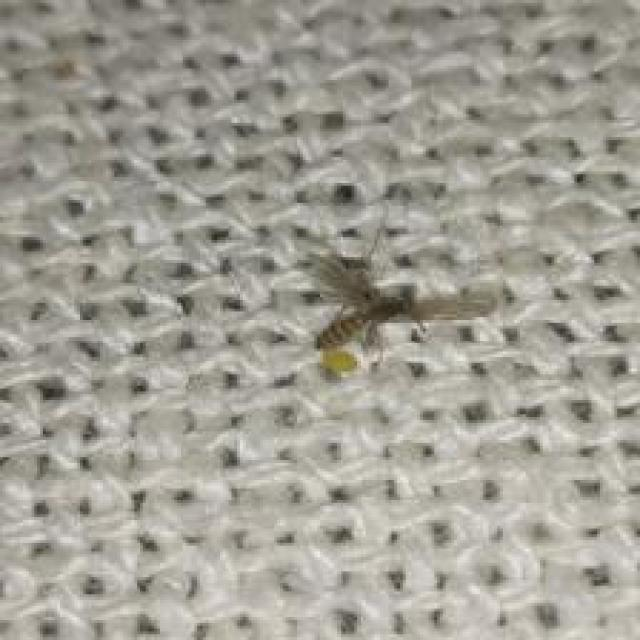Culex: (294, 226, 506, 380)
